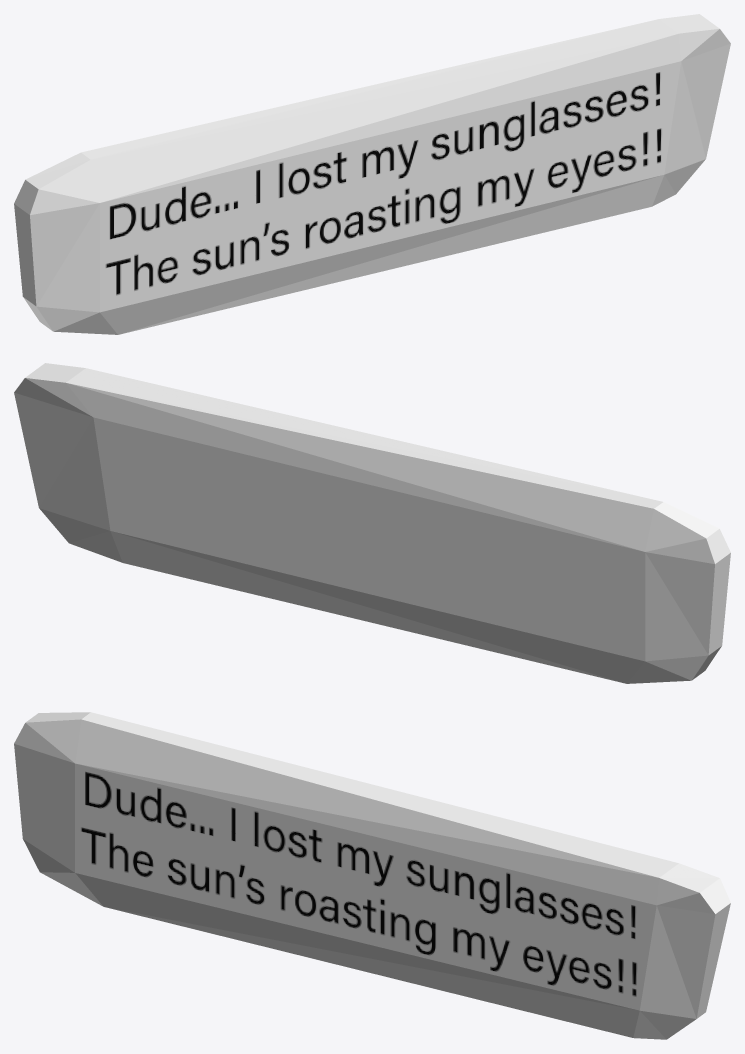
The model's file is 042620ant04textBubbleTextured.gltf.
3 renders of one model, top to bottom at view 1: azimuth 30°, elevation 25°; view 2: azimuth 150°, elevation 25°; view 3: azimuth 330°, elevation 25°, orthographic.
Parts seen in each view (by area): view 1: ant04; view 2: ant04; view 3: ant04.
Boxes of the visible parts, left/top/right/bottom form: ant04: left=14, top=14, right=730, bottom=334; ant04: left=14, top=363, right=730, bottom=683; ant04: left=14, top=712, right=730, bottom=1039.
Bounding box in the file's own units: 6.7 × 1.64 × 0.4079.
Materials: 1 (1 with a texture image).
